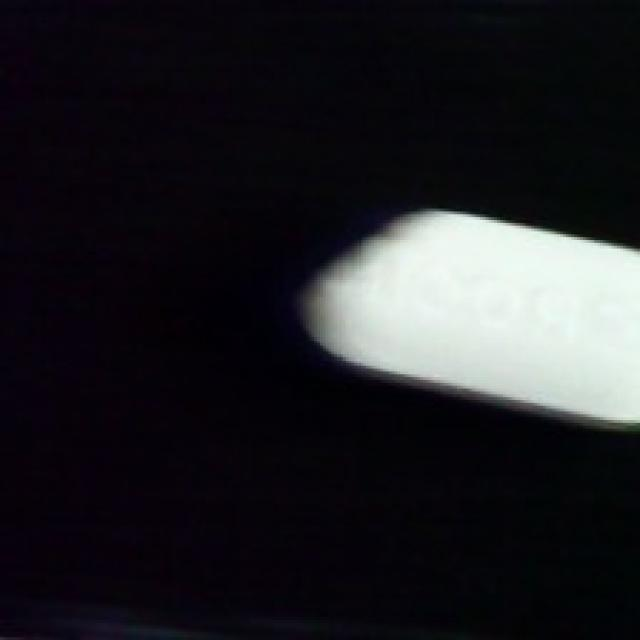defected: (294, 203, 640, 434)
